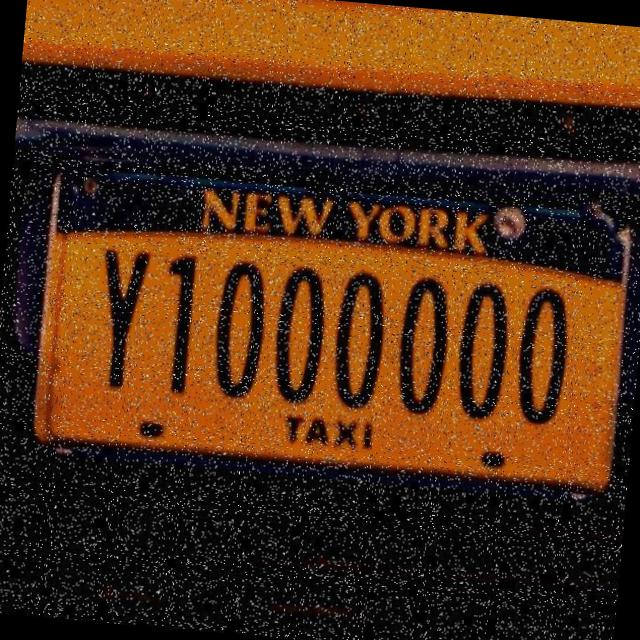LicensePlate: (21, 140, 640, 528)
